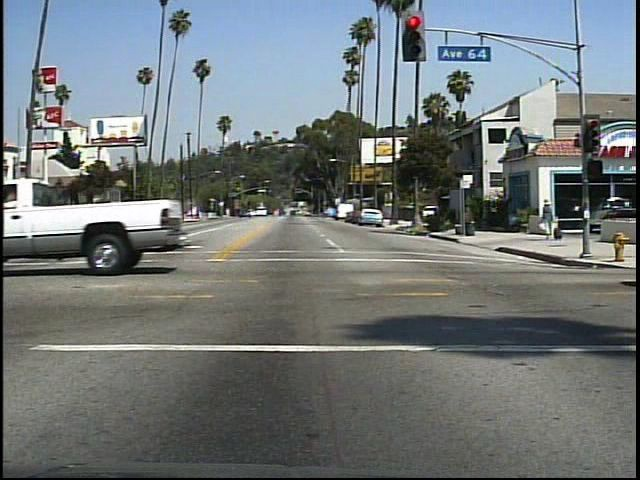person: (537, 194, 564, 243)
